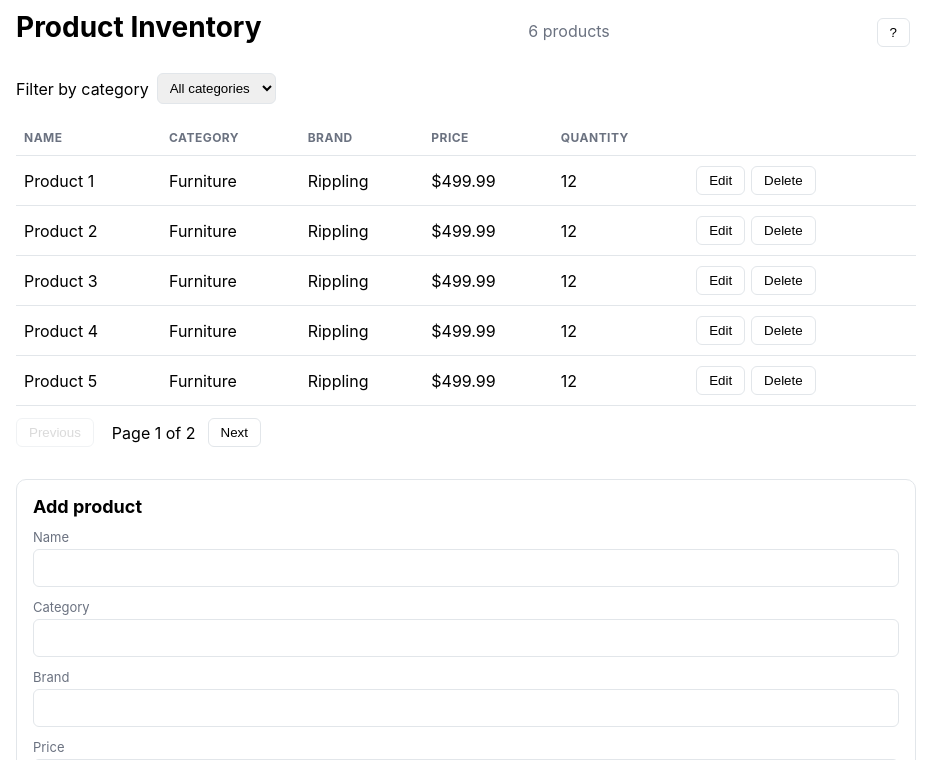
it: ProductsPage › falls back to the last page when the current page empties
expect the text "Product 1" is shown: met, box [16,156,161,206]
Click the button "Next".
click(234, 432)  # box [208,418,261,447]
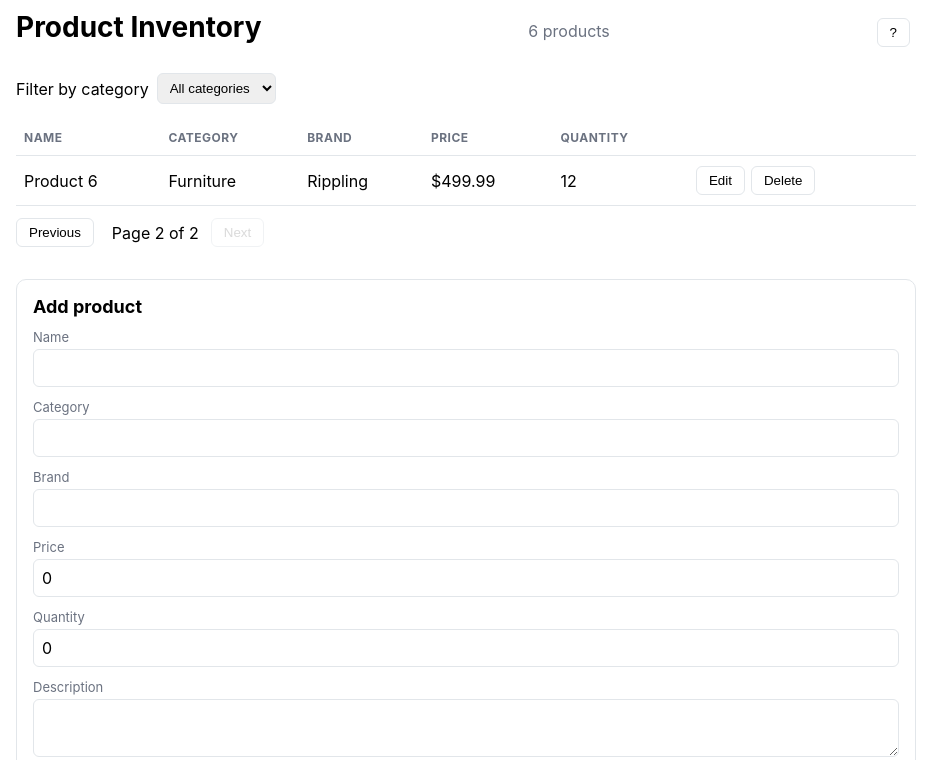
expect the text "Page 2 of 2" is shown: met, box [112,222,199,242]
Click the button "Delete".
click(783, 180)  # box [751,166,815,195]
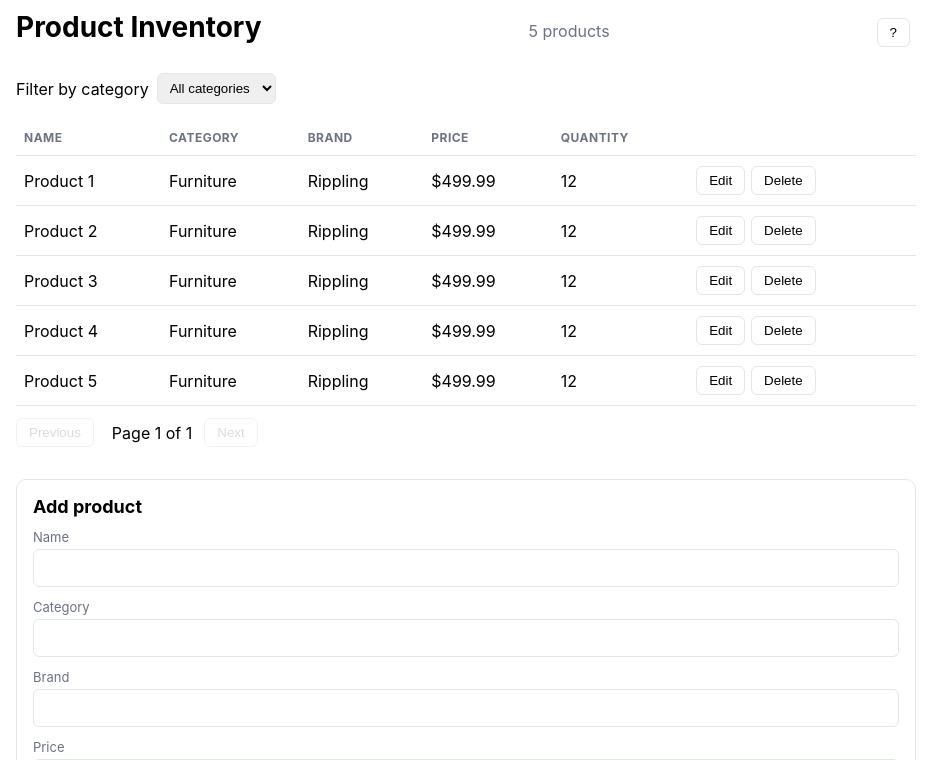
expect the text "Page 1 of 1" is shown: met, box [112,422,192,442]
expect the text "Product 1" is shown: met, box [16,156,161,206]
